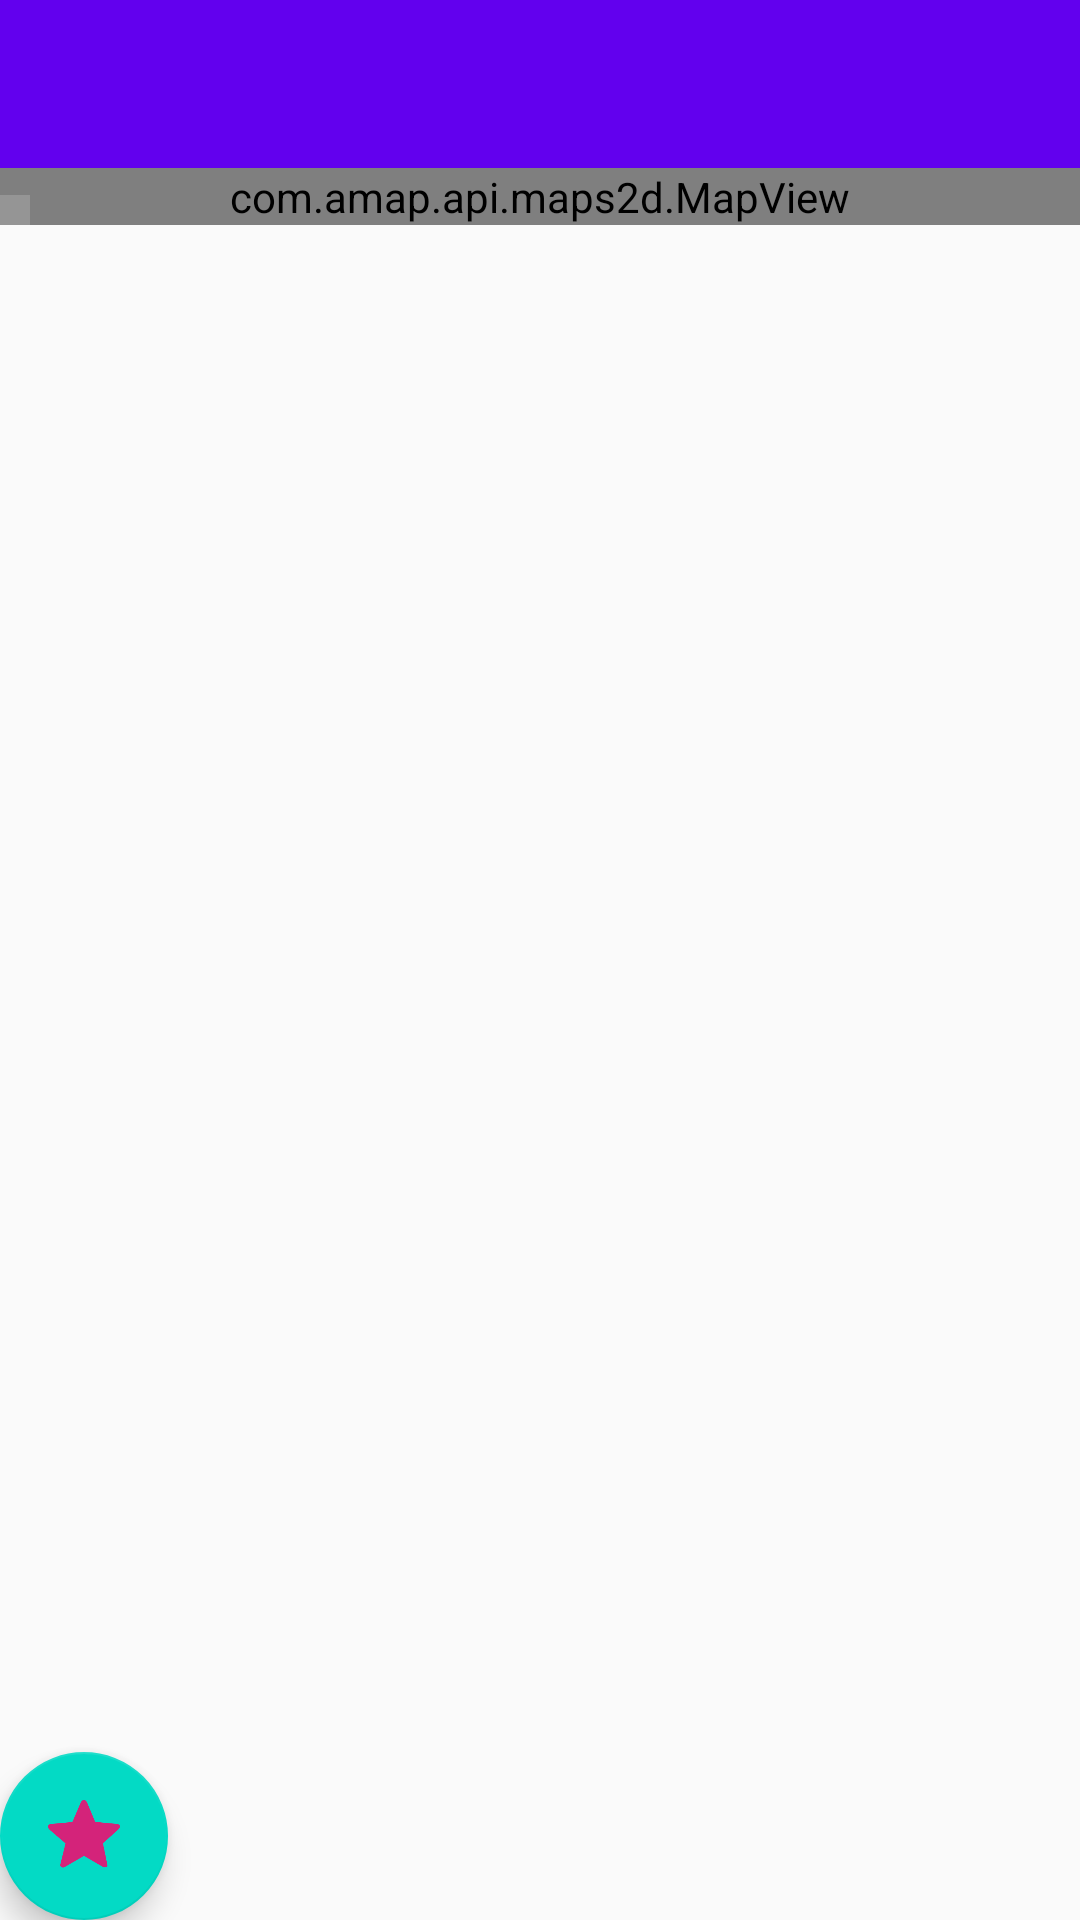

Where to tap for icons on this 1080x1920 app screen, as [x,y]:
star: [84,1836]
